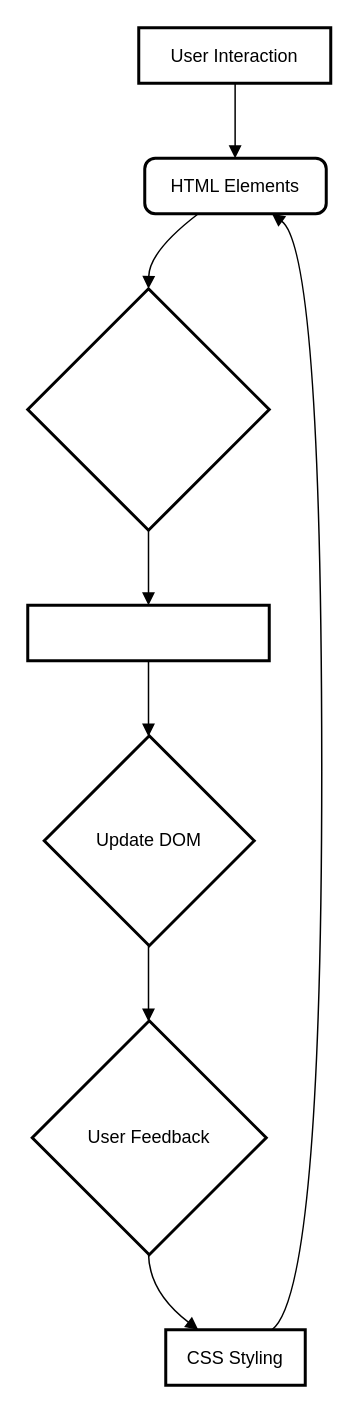
Some shapes in this 357 by 1412 pixel diagram are drawn without their labels. The shapes that lost their labels are listed below. From the top down, each one's centre as x and y in pixels, then its label:
the point at 148,408: Event Listeners
the point at 148,632: JavaScript Functions
